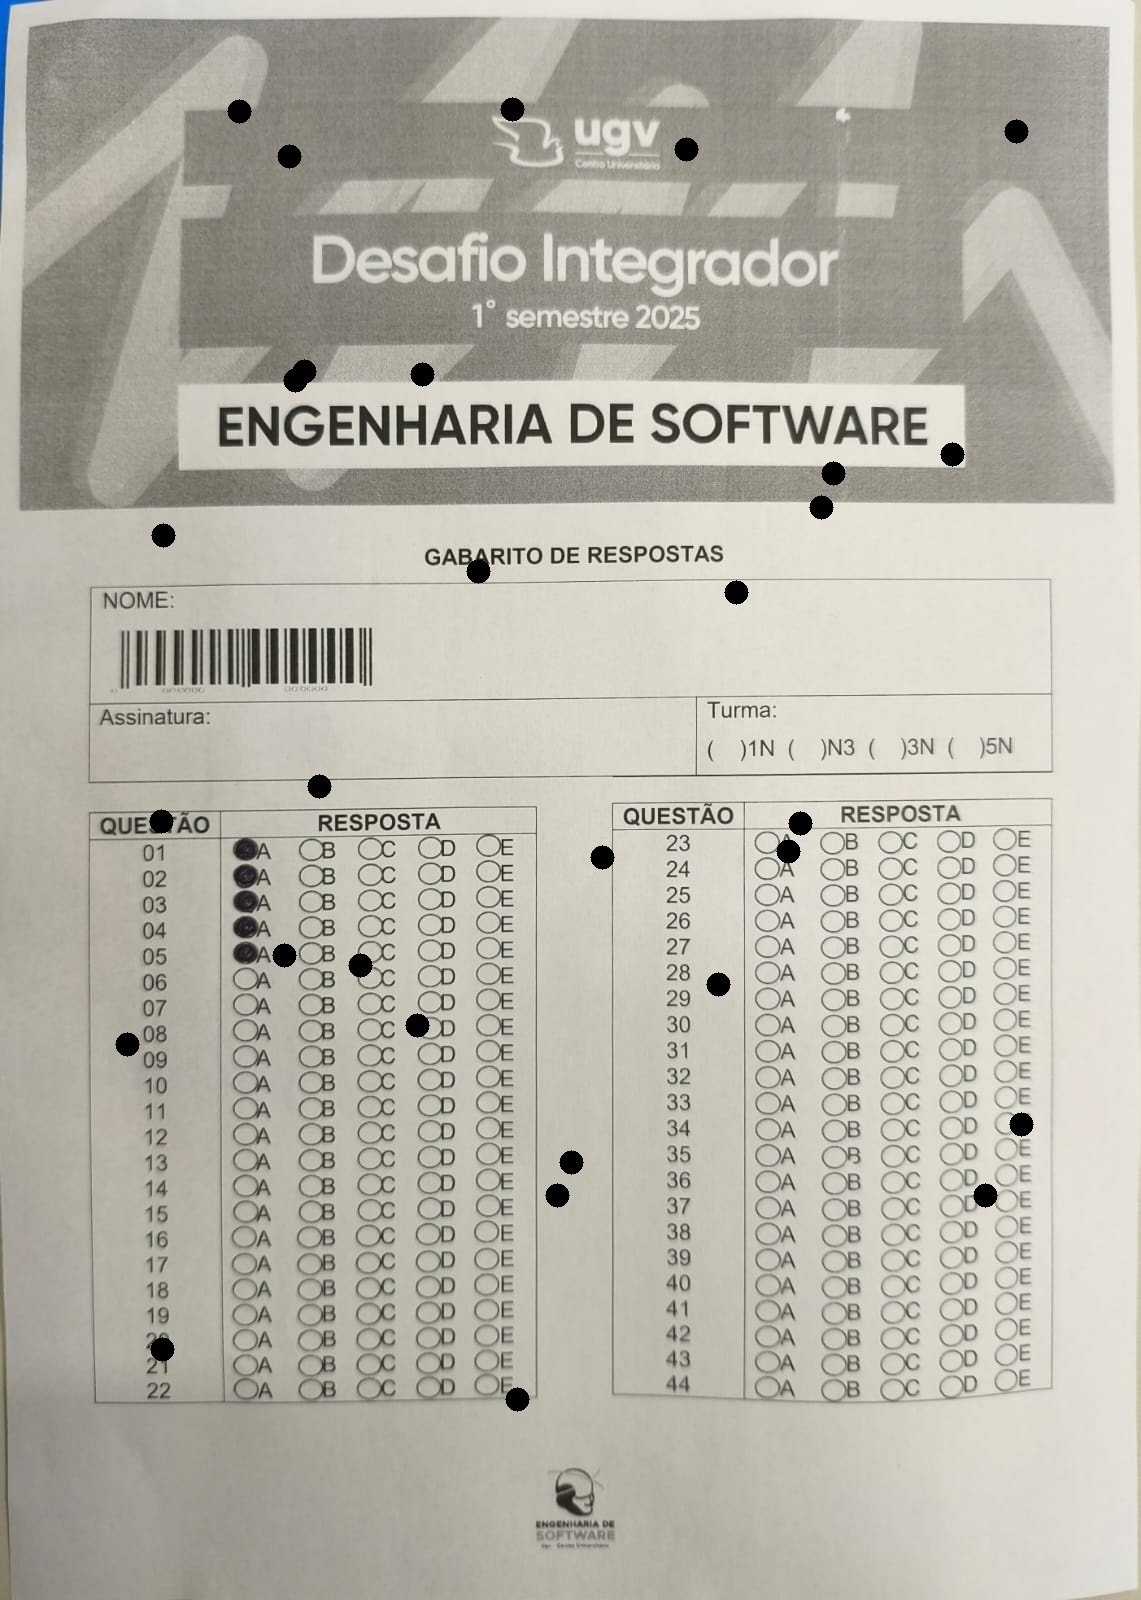bolinha: (545, 1178, 569, 1212), (291, 354, 316, 388), (149, 1332, 174, 1365), (775, 835, 800, 868), (724, 575, 748, 609), (788, 806, 813, 840), (809, 490, 834, 523), (115, 1027, 140, 1060), (466, 554, 490, 588), (283, 363, 307, 396), (1009, 1107, 1034, 1141), (272, 938, 296, 972), (151, 519, 175, 552), (940, 437, 964, 470), (277, 140, 301, 173), (821, 456, 845, 490), (973, 1178, 997, 1212), (1004, 114, 1027, 148), (410, 357, 433, 391), (706, 967, 730, 1001), (149, 804, 173, 838), (227, 94, 251, 128), (505, 1383, 529, 1416), (674, 132, 698, 165), (307, 769, 331, 802), (500, 93, 524, 126), (559, 1146, 583, 1179), (405, 1009, 428, 1042), (590, 841, 614, 874), (348, 948, 372, 981)
